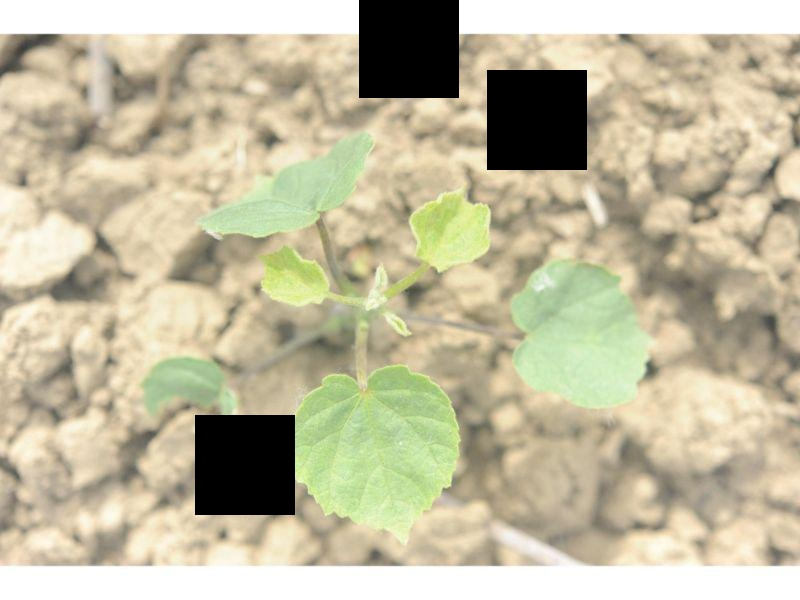velvet: (139, 136, 649, 538)
